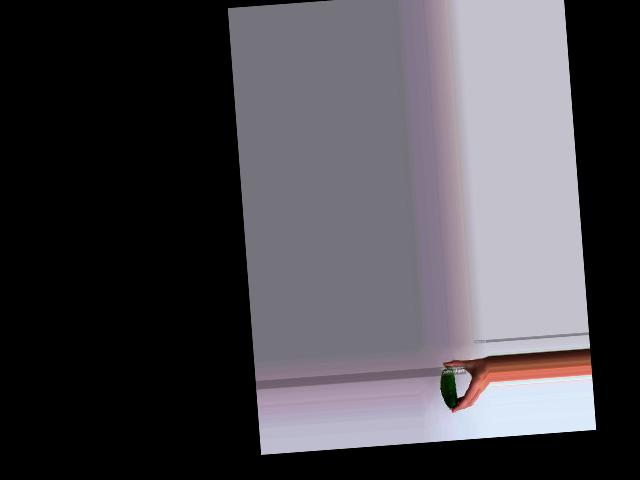cucumber: (438, 365, 457, 409)
